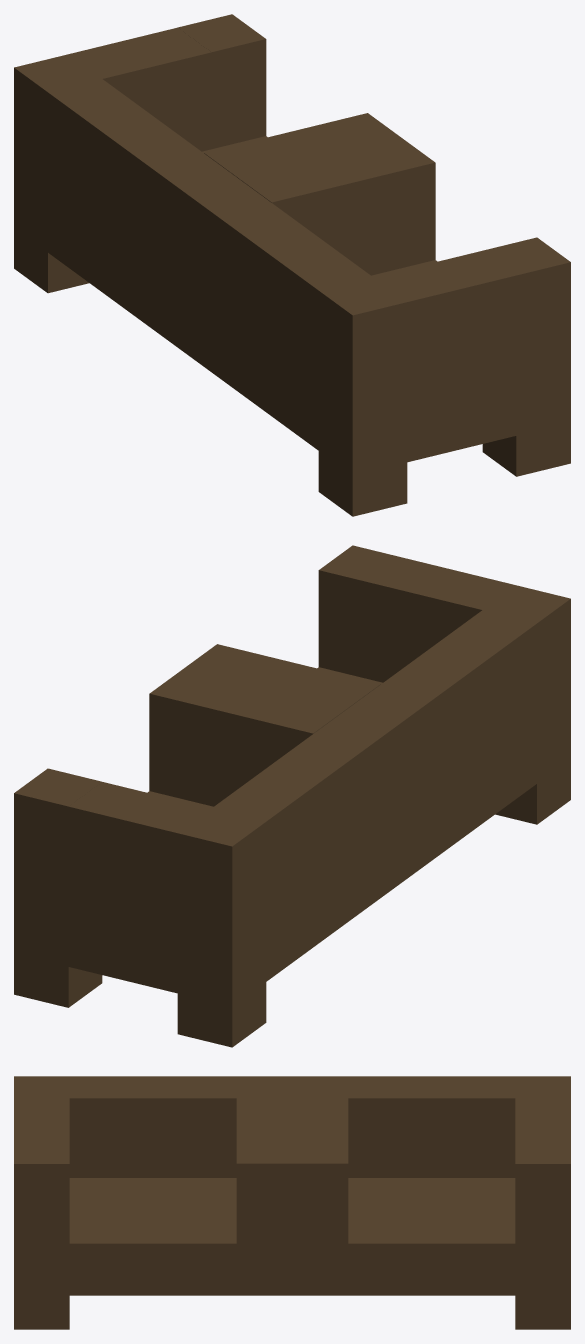
File: Sofa With split.fbx
3 views of the same model, one above another, from view 1: azimuth 30°, elevation 25°; view 2: azimuth 150°, elevation 25°; view 3: azimuth 270°, elevation 25° (orthographic). The views are drawn at different scales.
Visible parts, largest first — view 1: Cube; view 2: Cube; view 3: Cube.
Part boxes in pixels (x1=…): Cube: x1=14, y1=14, x2=570, y2=516; Cube: x1=14, y1=545, x2=570, y2=1047; Cube: x1=14, y1=1076, x2=570, y2=1329.
Bounding box in the file's own units: 209 × 184 × 561.
